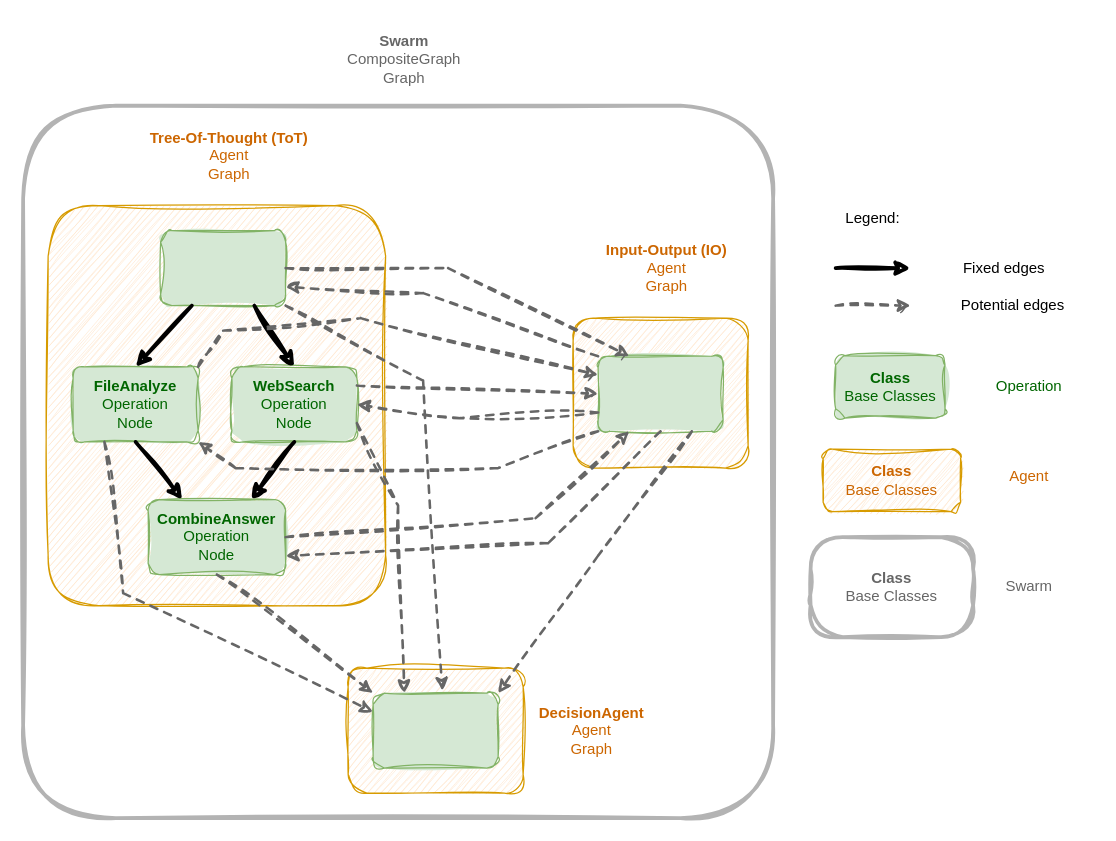
Image size: 1116x841. Some labels were removed from this diagram. The centre of each missing label's shape, as x and y in pixels:
"DirectAnswer Operation Node" belongs at point 660,393.
"FinalDecision Operation Node" belongs at point 435,730.
"GenerateQuery Operation Node" belongs at point 222,267.
